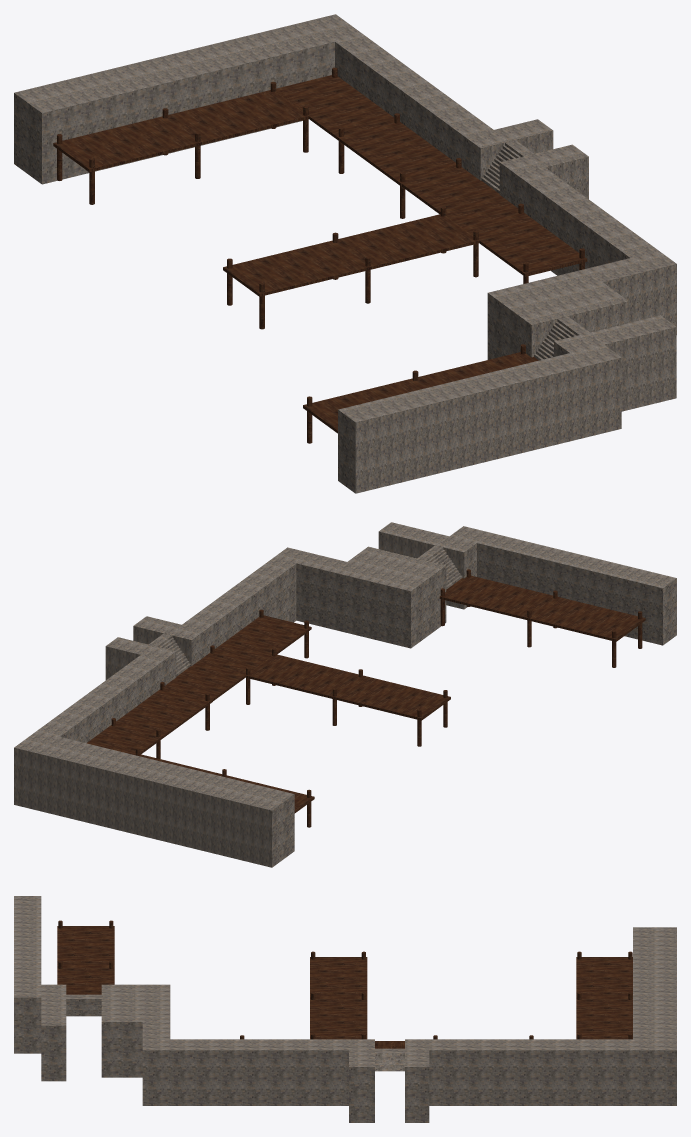
The model's file is dock.glb.
The picture shows the model from 3 angles, top to bottom: view 1: azimuth 30°, elevation 25°; view 2: azimuth 150°, elevation 25°; view 3: azimuth 270°, elevation 25°; orthographic projection. The views are drawn at different scales.
Visible parts, largest first — view 1: Cube.002, dock; view 2: Cube.002, dock; view 3: Cube.002, dock.
Boxes of the visible parts, x1,y1,x2,y2 form: Cube.002: (14, 14, 676, 493); dock: (53, 67, 587, 443); Cube.002: (14, 522, 676, 867); dock: (87, 569, 645, 827); Cube.002: (14, 896, 676, 1122); dock: (57, 920, 632, 1048).
Size of what is drawn, in the model's own units: 83.63 by 12.73 by 137.
Materials: 2 (2 with a texture image).
